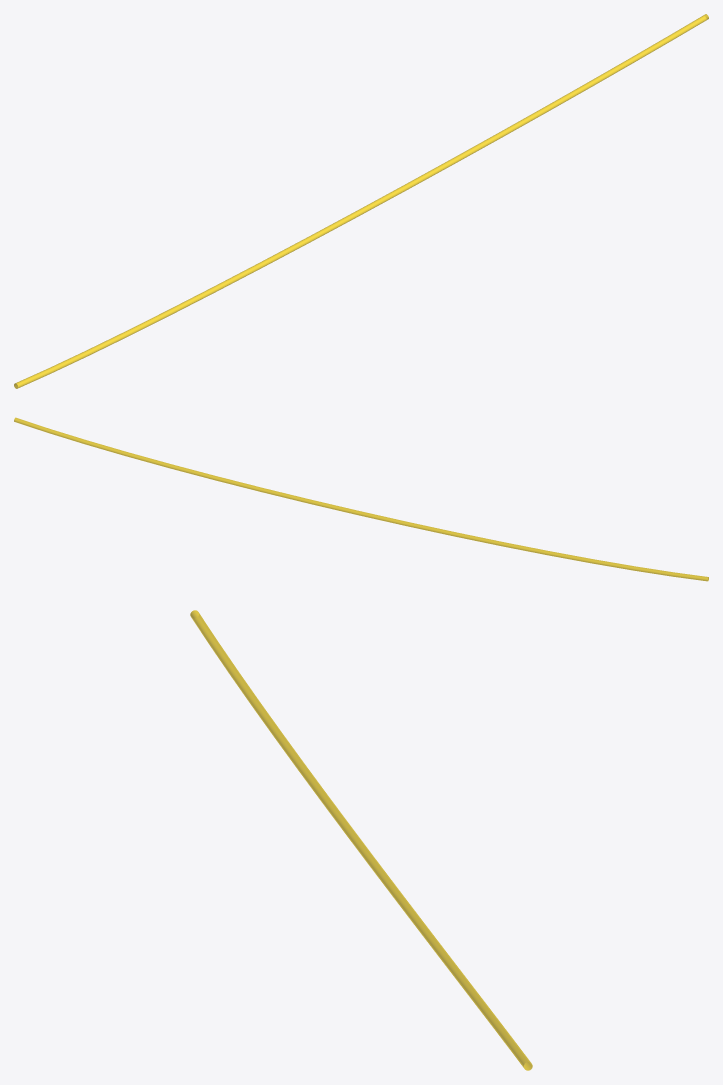
The model's file is Event_17758602_track_38.fbx.
The picture shows the model from 3 angles, top to bottom: view 1: azimuth 30°, elevation 25°; view 2: azimuth 150°, elevation 25°; view 3: azimuth 270°, elevation 25°; orthographic projection. The views are drawn at different scales.
Visible parts, largest first — view 1: Model; view 2: Model; view 3: Model.
Boxes of the visible parts, <box> form: Model: <box>14,14,708,388</box>; Model: <box>14,417,708,581</box>; Model: <box>190,610,532,1070</box>.
Size of the model in its own units: 6.25 by 0.7411 by 1.52.
